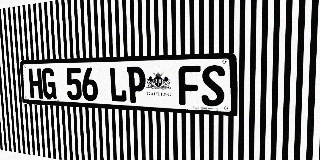5: (66, 68, 82, 100)
6: (81, 67, 98, 101)
F: (178, 65, 201, 106)
G: (41, 68, 57, 99)
H: (28, 68, 43, 99)
L: (109, 67, 127, 102)
P: (127, 66, 146, 103)
S: (201, 65, 225, 107)
